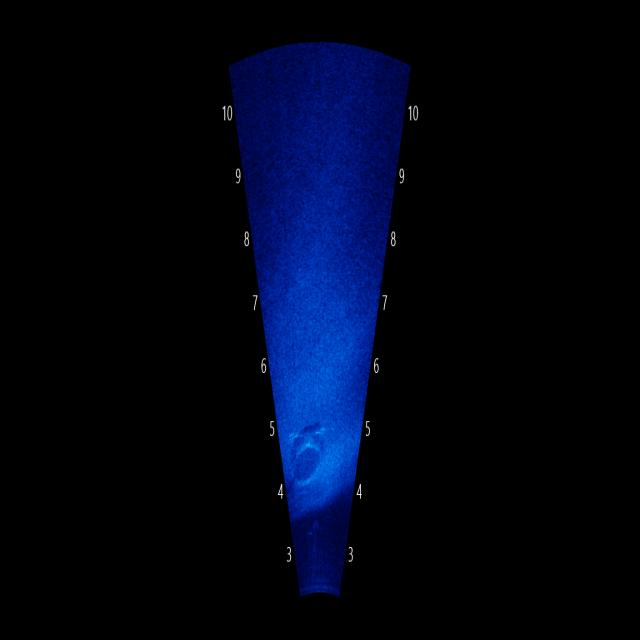circle: (288, 426, 322, 499)
